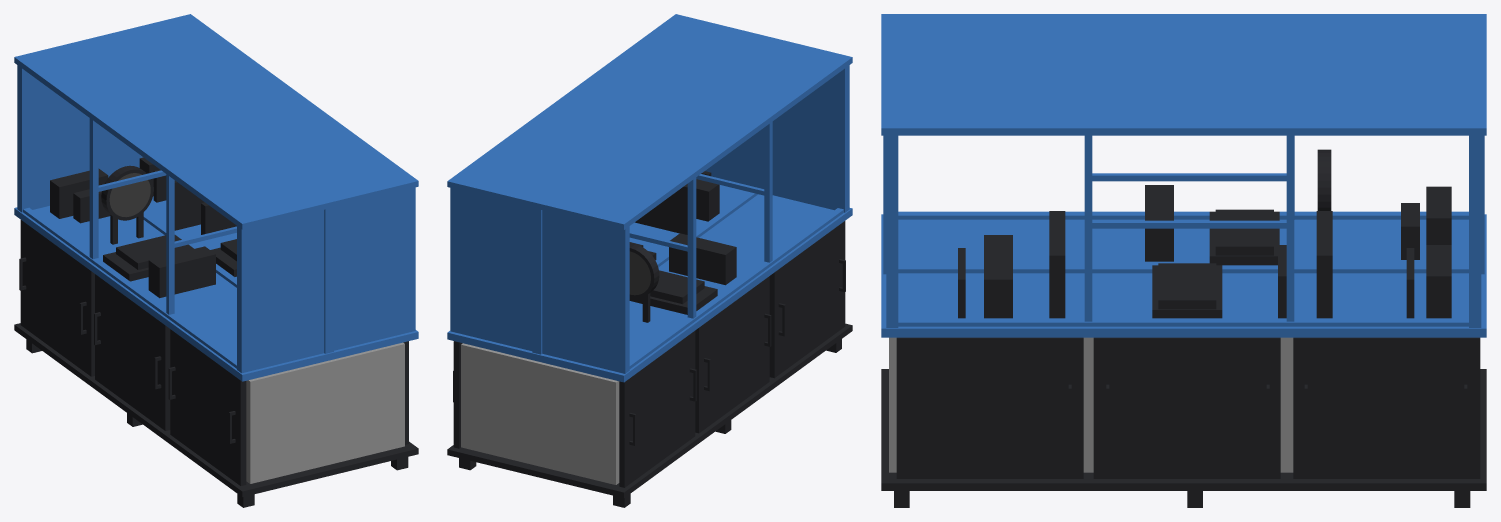
File: blueMachine.fbx
The picture shows the model from 3 angles, left to right: view 1: azimuth 30°, elevation 25°; view 2: azimuth 150°, elevation 25°; view 3: azimuth 270°, elevation 25°; orthographic projection. The views are drawn at different scales.
Parts seen in each view (by area): view 1: blueMachine; view 2: blueMachine; view 3: blueMachine.
Boxes of the visible parts, <box> form: blueMachine: <box>14,14,418,507</box>; blueMachine: <box>447,14,852,507</box>; blueMachine: <box>881,14,1486,507</box>.
Size of the model in its own units: 205 by 313 by 448.
